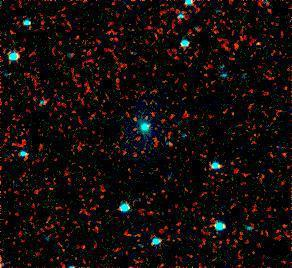star: (243, 28, 273, 58)
